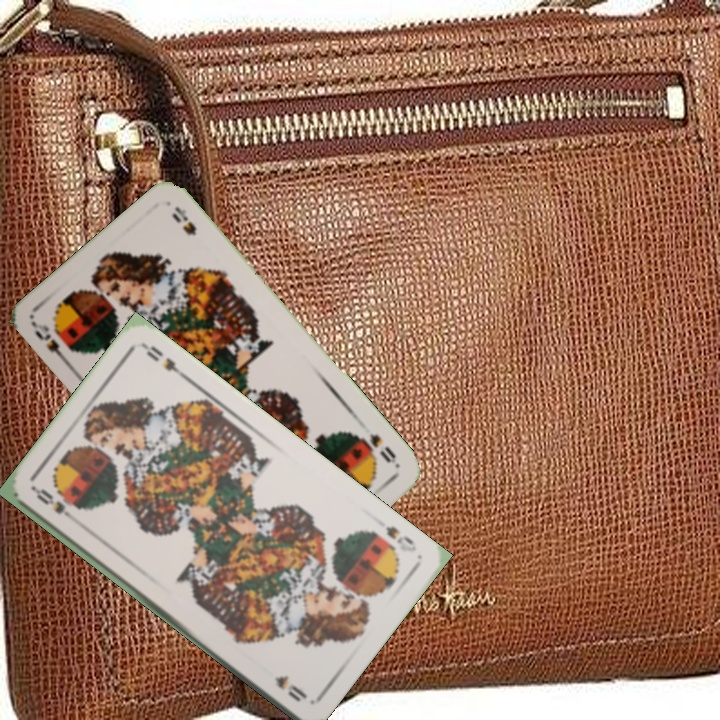SO: (29, 319, 74, 369), (30, 483, 81, 526), (357, 429, 401, 470), (381, 521, 419, 555)
